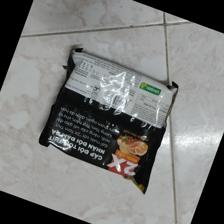3mien: (37, 46, 181, 195)
